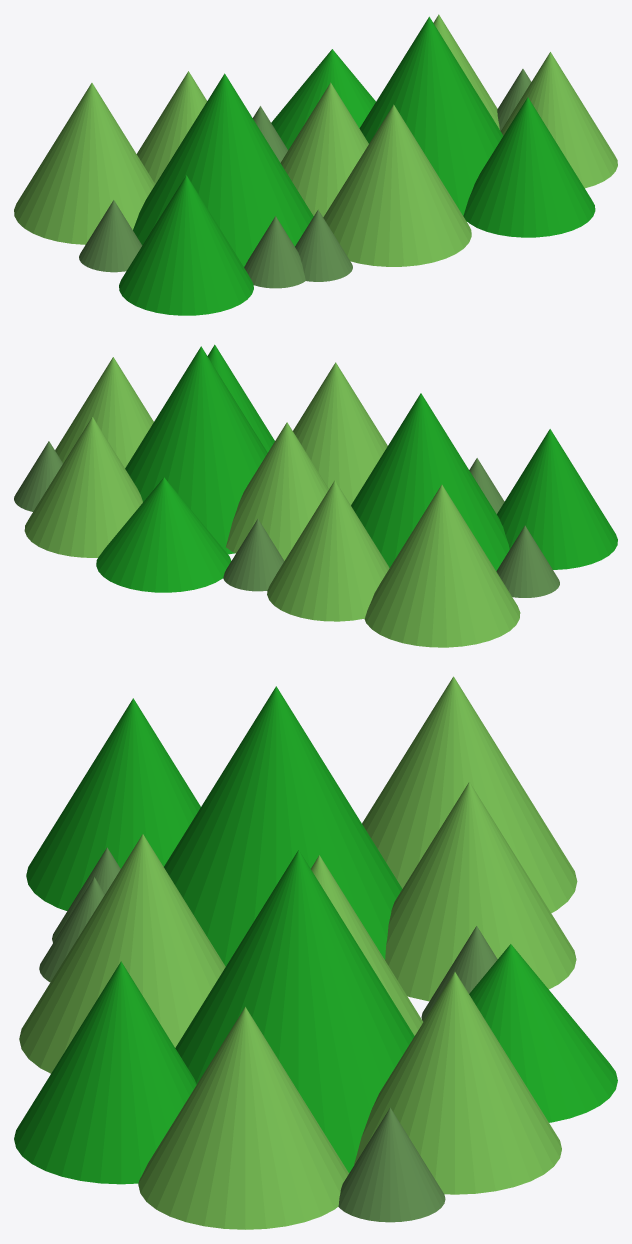
File: mountain2.glb
3 views of the same model, one above another, from view 1: azimuth 30°, elevation 25°; view 2: azimuth 150°, elevation 25°; view 3: azimuth 270°, elevation 25° (orthographic). The views are drawn at different scales.
Parts seen in each view (by area): view 1: Cone.008, Cone.005, Cone.010, Cone.003, Cone.012, Cone.006, Cone.002, Cone.014, Cone, Cone.009, Cone.013, Cone.011 (+4 smaller); view 2: Cone.010, Cone.003, Cone.008, Cone.009, Cone.001, Cone, Cone.012, Cone.002, Cone.005, Cone.014, Cone.011, Cone.004 (+3 smaller); view 3: Cone.003, Cone.008, Cone.014, Cone.001, Cone.006, Cone.009, Cone.005, Cone.010, Cone.012, Cone, Cone.017, Cone.002 (+3 smaller).
Boxes of the visible parts, bbox=[...] form: Cone.008: bbox=[133, 73, 313, 266]; Cone.005: bbox=[323, 104, 471, 266]; Cone.010: bbox=[14, 83, 155, 244]; Cone.003: bbox=[359, 16, 503, 221]; Cone.012: bbox=[119, 175, 253, 315]; Cone.006: bbox=[463, 97, 595, 237]; Cone.002: bbox=[280, 82, 368, 217]; Cone.014: bbox=[501, 52, 617, 188]; Cone: bbox=[271, 49, 375, 150]; Cone.009: bbox=[137, 71, 206, 183]; Cone.013: bbox=[244, 216, 305, 288]; Cone.011: bbox=[79, 200, 142, 272]; Cone.010: bbox=[364, 484, 520, 647]; Cone.003: bbox=[125, 346, 267, 554]; Cone.008: bbox=[351, 393, 509, 571]; Cone.009: bbox=[267, 480, 389, 621]; Cone.001: bbox=[24, 416, 142, 557]; Cone: bbox=[96, 477, 231, 592]; Cone.012: bbox=[497, 429, 617, 569]; Cone.002: bbox=[226, 422, 328, 560]; Cone.005: bbox=[293, 362, 387, 505]; Cone.014: bbox=[55, 357, 153, 467]; Cone.011: bbox=[496, 525, 559, 597]; Cone.004: bbox=[223, 519, 284, 591]; Cone.003: bbox=[175, 850, 414, 1172]; Cone.008: bbox=[164, 686, 402, 966]; Cone.014: bbox=[138, 1007, 348, 1229]; Cone.001: bbox=[354, 972, 561, 1194]; Cone.006: bbox=[14, 961, 196, 1184]; Cone.009: bbox=[385, 782, 576, 1001]; Cone.005: bbox=[19, 834, 225, 1073]; Cone.010: bbox=[362, 676, 577, 912]; Cone.012: bbox=[26, 698, 200, 910]; Cone: bbox=[469, 944, 617, 1122]; Cone.017: bbox=[338, 1107, 445, 1222]; Cone.002: bbox=[311, 855, 423, 1035].
Bounding box in the file's own units: 69.46 × 21.31 × 44.2.
